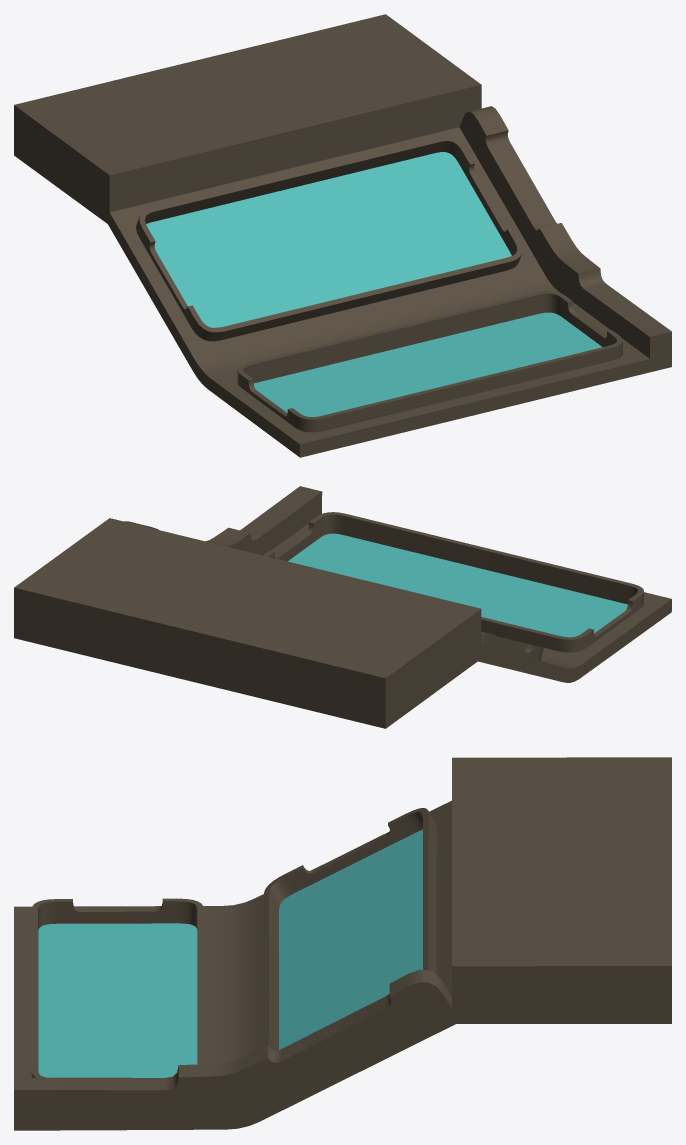
Rendered from UnderFloor_B_Big.FBX.
3 renders of one model, top to bottom at view 1: azimuth 30°, elevation 25°; view 2: azimuth 150°, elevation 25°; view 3: azimuth 270°, elevation 25°, orthographic. The views are drawn at different scales.
Parts seen in each view (by area): view 1: UnderFloor_B_Big, UnderFloor_B_Big_Glass; view 2: UnderFloor_B_Big, UnderFloor_B_Big_Glass; view 3: UnderFloor_B_Big, UnderFloor_B_Big_Glass.
Part boxes in pixels (x1,y1,x2,y2): UnderFloor_B_Big: (14,14,671,457); UnderFloor_B_Big_Glass: (146,152,602,416); UnderFloor_B_Big: (14,486,671,728); UnderFloor_B_Big_Glass: (288,533,627,637); UnderFloor_B_Big: (14,757,671,1130); UnderFloor_B_Big_Glass: (38,829,422,1077).
Bounding box in the file's own units: 300 × 111 × 400.
